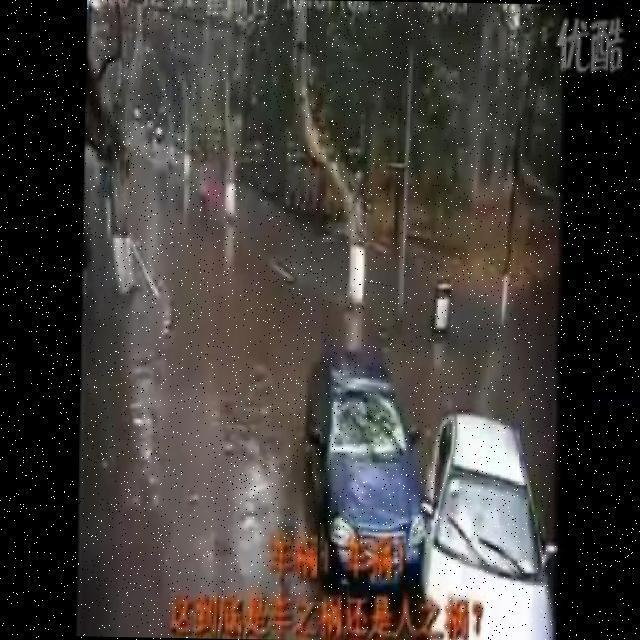accident: (316, 420, 540, 640)
